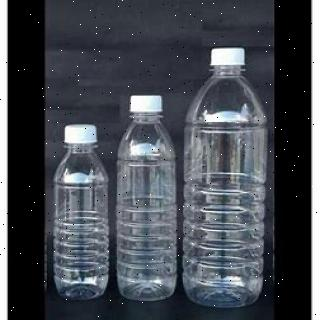Plastic-bottle: (173, 20, 274, 320), (102, 62, 189, 320), (46, 95, 114, 320)
